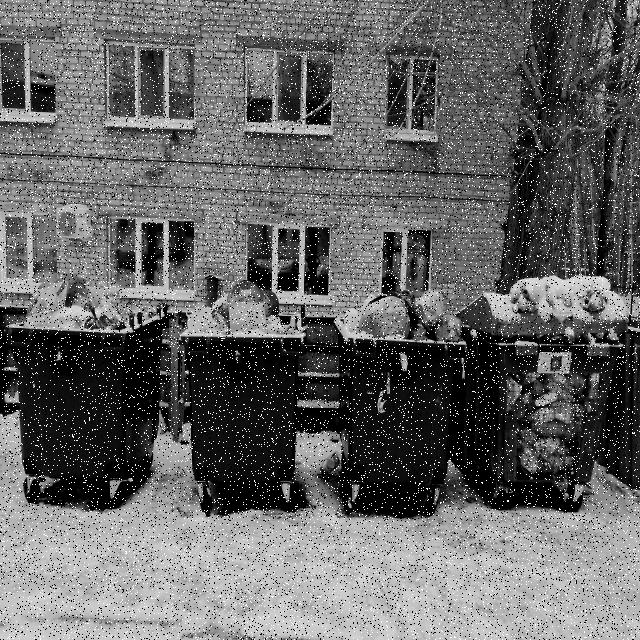Trashcan: (453, 246, 630, 534), (6, 264, 175, 526), (168, 256, 320, 538), (328, 271, 473, 531)
